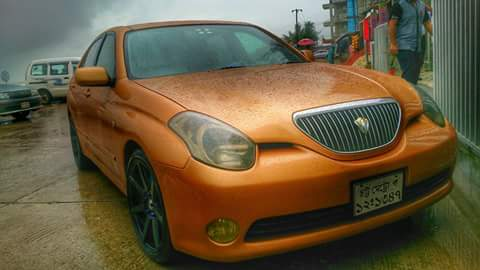registration_plate: (352, 171, 404, 216)
